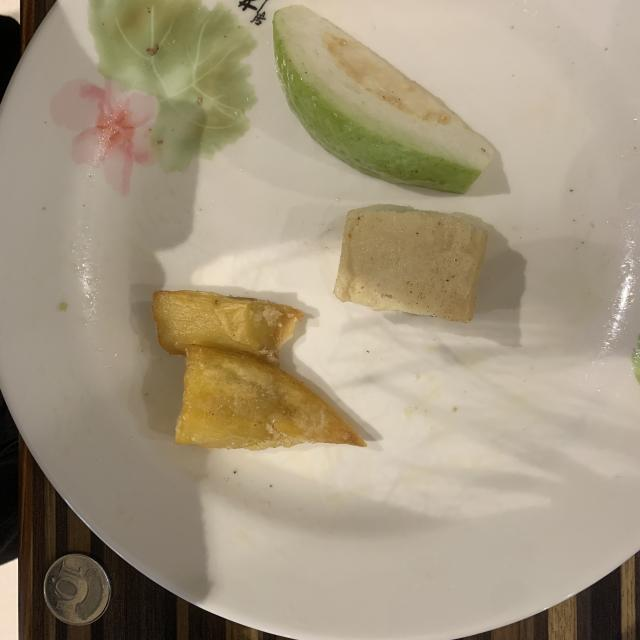coin: (44, 554, 110, 625)
creamy tofu -without sauce-: (334, 209, 488, 322)
guava -sliced-: (272, 5, 495, 194)
